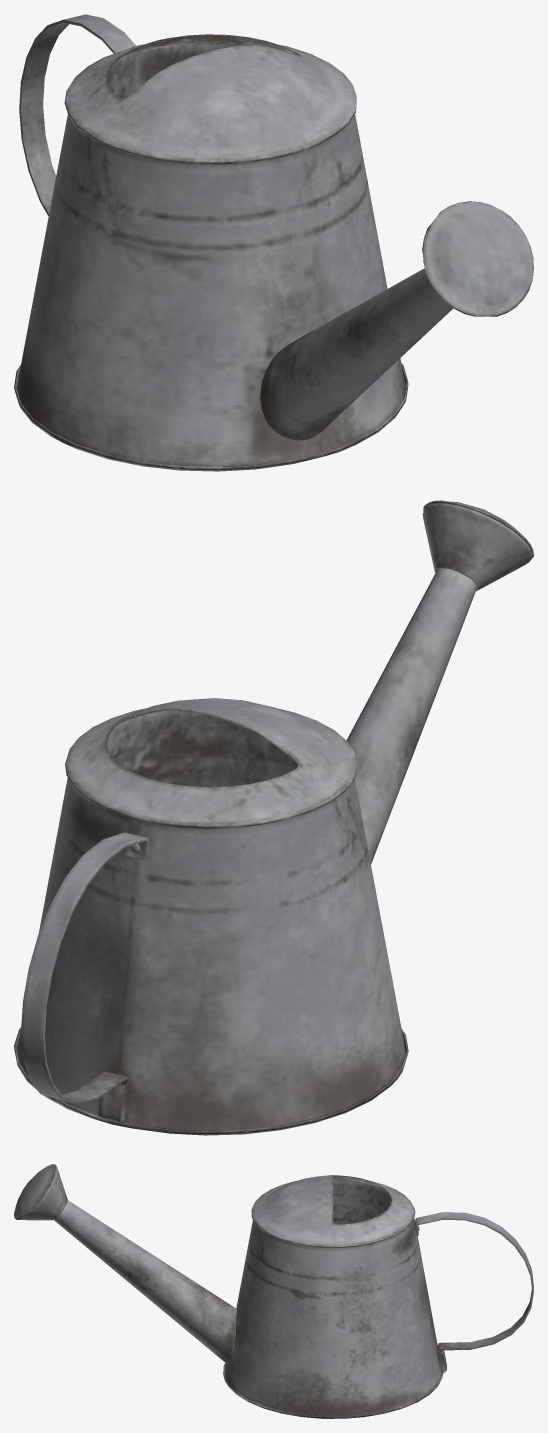
The model's file is watering_can_metal_01.glb.
3 renders of one model, top to bottom at view 1: azimuth 30°, elevation 25°; view 2: azimuth 150°, elevation 25°; view 3: azimuth 270°, elevation 25°, orthographic. The views are drawn at different scales.
Visible parts, largest first — view 1: watering_can_metal_01; view 2: watering_can_metal_01; view 3: watering_can_metal_01.
Boxes of the visible parts, box(x1,y1,x2,y2) form: watering_can_metal_01: box(14, 14, 533, 471); watering_can_metal_01: box(14, 500, 533, 1135); watering_can_metal_01: box(14, 1164, 533, 1418).
Size of the model in its own units: 0.191 by 0.1965 by 0.4521.
1 material, 1 textured.
